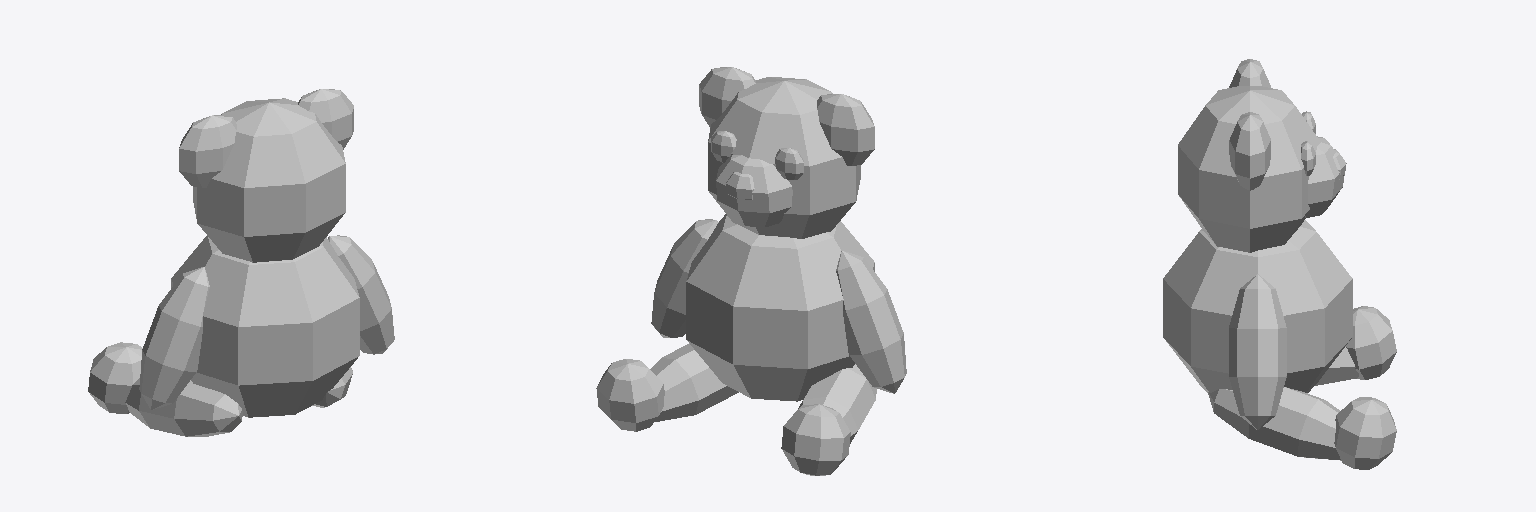
File: Teddy_A__2.obj
3 renders of one model, left to right at view 1: azimuth 30°, elevation 25°; view 2: azimuth 150°, elevation 25°; view 3: azimuth 270°, elevation 25°, orthographic.
Visible parts, largest first — view 1: sphere2, sphere2_copy3, sphere2_copy11, sphere2_copy14, sphere2_copy10, sphere2_copy5, sphere2_copy17, sphere2_copy6, sphere2_copy12; view 2: sphere2, sphere2_copy3, sphere2_copy11, sphere2_copy17, sphere2_copy16, sphere2_copy12, sphere2_copy4, sphere2_copy10, sphere2_copy5, sphere2_copy14, sphere2_copy6, sphere2_copy7 (+2 smaller); view 3: sphere2, sphere2_copy3, sphere2_copy10, sphere2_copy12, sphere2_copy16, sphere2_copy17, sphere2_copy6, sphere2_copy4, sphere2_copy5, sphere2_copy14.
Part boxes in pixels (x1,y1,x2,y2): sphere2: (171, 236, 359, 417); sphere2_copy3: (193, 98, 345, 262); sphere2_copy11: (139, 267, 209, 409); sphere2_copy14: (125, 378, 242, 436); sphere2_copy10: (328, 235, 394, 354); sphere2_copy5: (179, 115, 236, 187); sphere2_copy17: (88, 342, 142, 413); sphere2_copy6: (298, 89, 353, 149); sphere2_copy12: (312, 367, 352, 407); sphere2: (686, 214, 874, 401); sphere2_copy3: (708, 77, 860, 238); sphere2_copy11: (836, 251, 906, 393); sphere2_copy17: (781, 404, 850, 475); sphere2_copy16: (596, 359, 664, 431); sphere2_copy12: (650, 343, 738, 421); sphere2_copy4: (716, 155, 792, 227); sphere2_copy10: (651, 219, 718, 337); sphere2_copy5: (817, 94, 874, 165); sphere2_copy14: (798, 364, 876, 443); sphere2_copy6: (699, 67, 755, 127); sphere2_copy7: (775, 148, 803, 179); sphere2: (1163, 220, 1352, 392); sphere2_copy3: (1178, 86, 1320, 252); sphere2_copy10: (1229, 274, 1286, 429); sphere2_copy12: (1208, 387, 1340, 460); sphere2_copy16: (1334, 397, 1396, 469); sphere2_copy17: (1345, 306, 1396, 379); sphere2_copy6: (1229, 112, 1270, 190); sphere2_copy4: (1305, 136, 1344, 217); sphere2_copy5: (1229, 59, 1270, 87); sphere2_copy14: (1315, 347, 1358, 385).
Size of the model in its own units: 2.79 by 3.51 by 2.25.